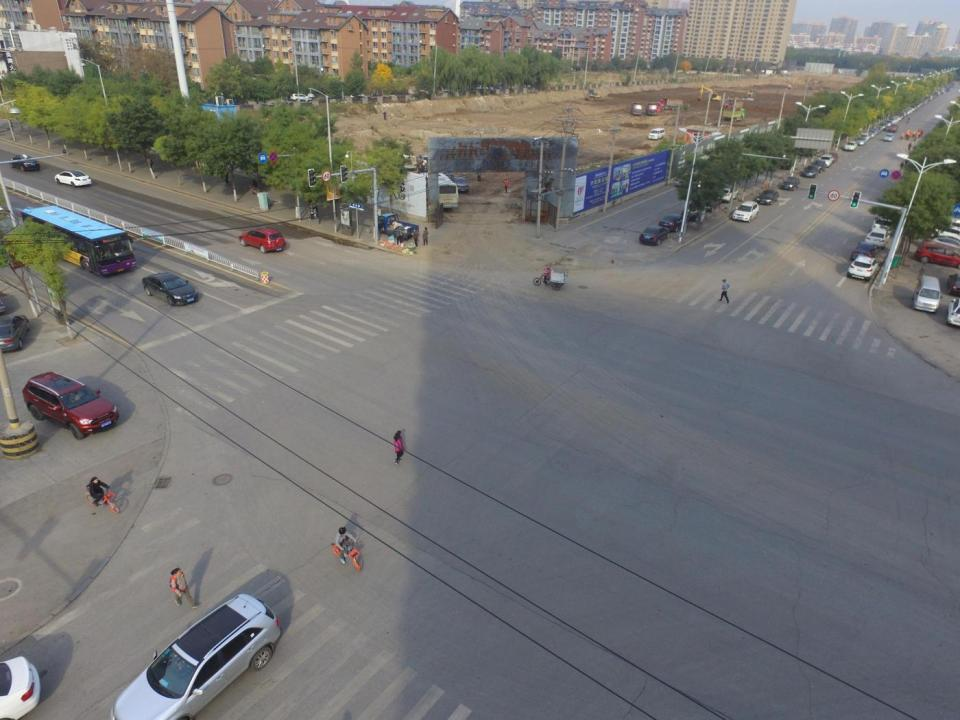bus: (20, 209, 134, 276), (423, 170, 459, 211)
car: (100, 594, 281, 719), (22, 372, 119, 439), (141, 272, 198, 307), (914, 242, 960, 269), (238, 228, 285, 254), (0, 314, 30, 354), (846, 257, 880, 281), (923, 235, 960, 255), (54, 172, 93, 190), (850, 241, 880, 263), (637, 225, 669, 245), (732, 201, 760, 223), (9, 154, 40, 173), (930, 225, 960, 242), (872, 214, 894, 236), (659, 212, 683, 232), (865, 228, 889, 248), (698, 194, 721, 211), (715, 186, 739, 202), (758, 189, 780, 206), (682, 204, 705, 220), (947, 299, 960, 325), (675, 173, 697, 188), (947, 272, 960, 295), (416, 154, 434, 170), (450, 178, 470, 192), (780, 177, 800, 189), (290, 93, 311, 102), (805, 165, 821, 176), (820, 154, 833, 167), (812, 160, 825, 172), (842, 141, 856, 152), (827, 152, 839, 163), (883, 133, 894, 142), (857, 137, 866, 146), (868, 129, 876, 138), (862, 132, 870, 140)
truck: (376, 212, 418, 240), (656, 97, 682, 111), (722, 107, 745, 122), (630, 100, 642, 117), (646, 102, 658, 116)
van: (912, 275, 942, 315), (394, 149, 417, 171), (648, 129, 665, 140)
